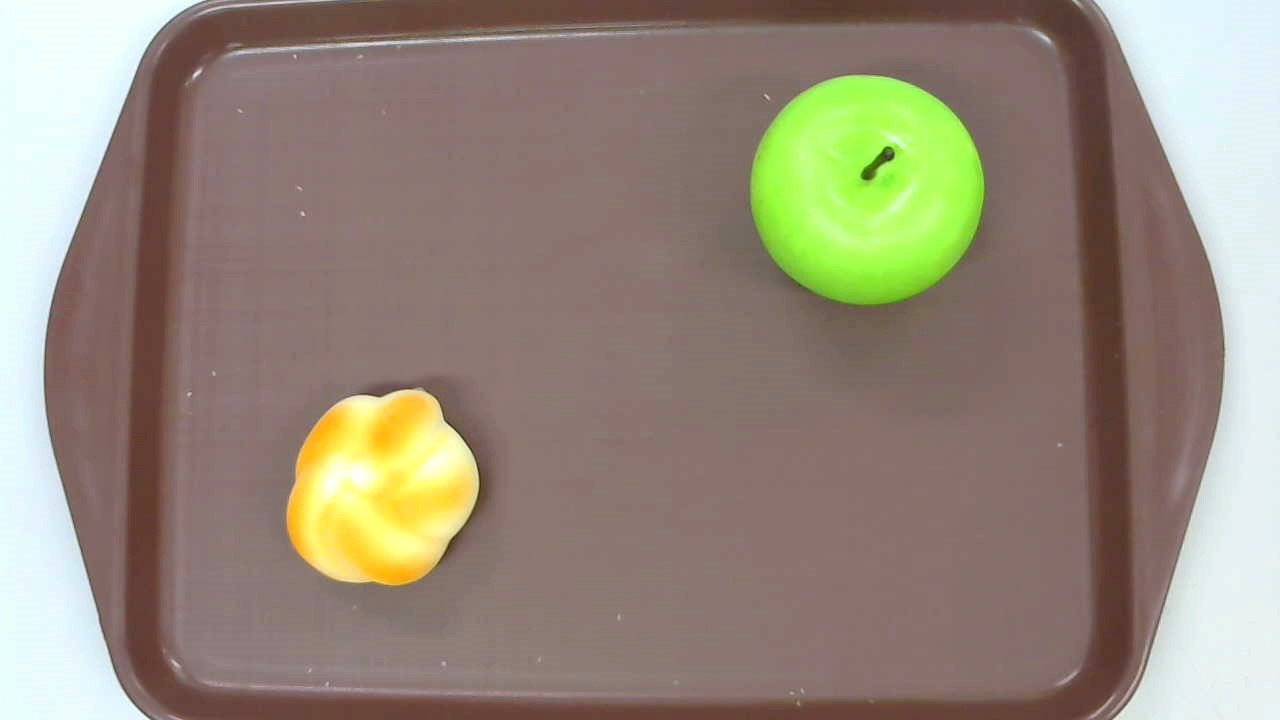green apple: (748, 73, 985, 309)
twist bread: (285, 388, 478, 588)
